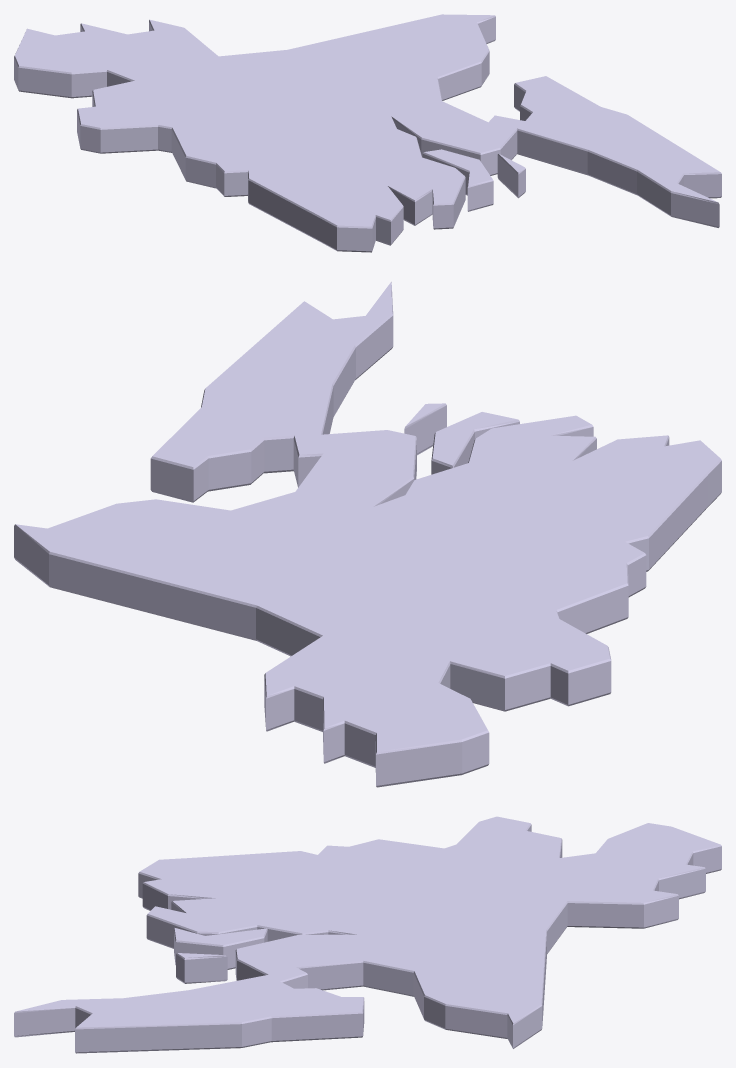
Rendered from BGD.glb.
The picture shows the model from 3 angles, top to bottom: view 1: azimuth 30°, elevation 25°; view 2: azimuth 150°, elevation 25°; view 3: azimuth 270°, elevation 25°; orthographic projection. The views are drawn at different scales.
Bounding box in the file's own units: 1.19 × 0.068 × 1.69.
